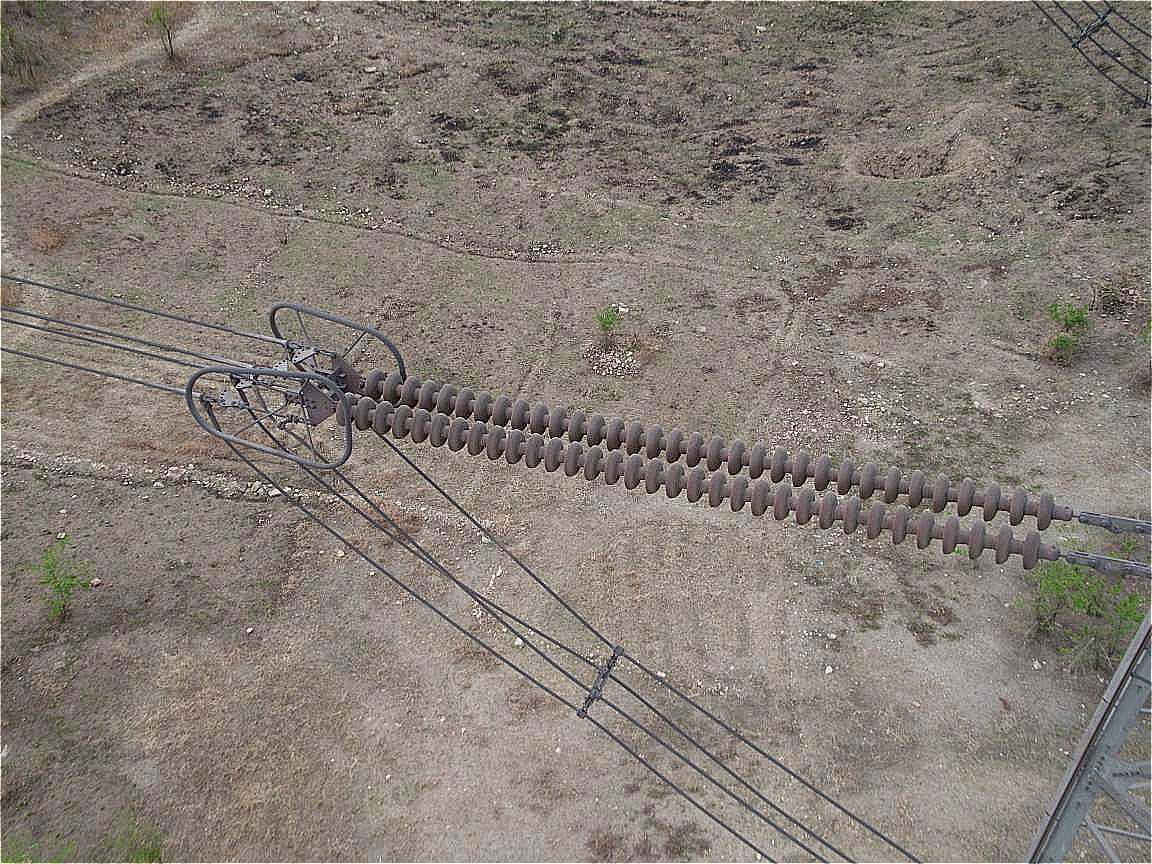insultor1: (329, 361, 1086, 578)
